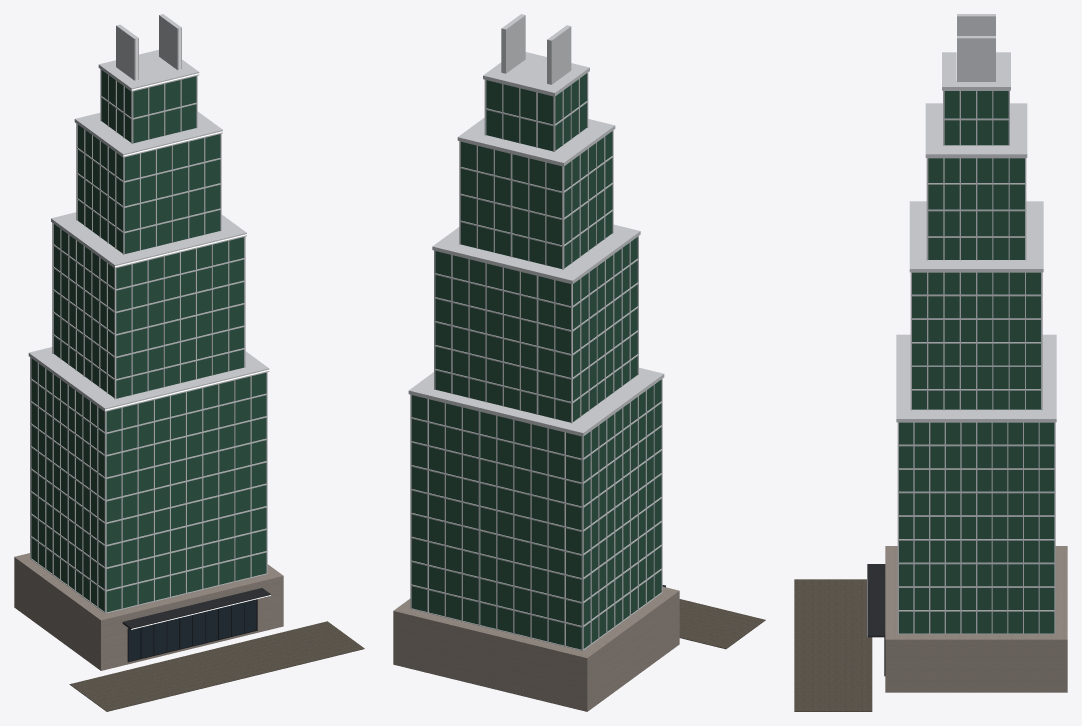
Rendered from OT_Skyscraper_Setback.glb.
3 renders of one model, left to right at view 1: azimuth 30°, elevation 25°; view 2: azimuth 150°, elevation 25°; view 3: azimuth 270°, elevation 25°, orthographic. The views are drawn at different scales.
Parts seen in each view (by area): view 1: OT_Skyscraper_Setback_GreenGlass__2f5a48, OT_Skyscraper_Setback_Mullion__d6d8dc, OT_Skyscraper_Setback_Limestone, OT_Skyscraper_Setback_Pavement, OT_Skyscraper_Setback_Glass__22303a, OT_Skyscraper_Setback_CanopyDark__2a2c30, OT_Skyscraper_Setback_LEDStrip__e8f2ff, OT_Skyscraper_Setback_Frame__18191c; view 2: OT_Skyscraper_Setback_GreenGlass__2f5a48, OT_Skyscraper_Setback_Mullion__d6d8dc, OT_Skyscraper_Setback_Limestone, OT_Skyscraper_Setback_Pavement; view 3: OT_Skyscraper_Setback_GreenGlass__2f5a48, OT_Skyscraper_Setback_Mullion__d6d8dc, OT_Skyscraper_Setback_Limestone, OT_Skyscraper_Setback_Pavement, OT_Skyscraper_Setback_CanopyDark__2a2c30.
Boxes of the visible parts, x1,y1,x2,y2 form: OT_Skyscraper_Setback_GreenGlass__2f5a48: (31, 70, 266, 612); OT_Skyscraper_Setback_Mullion__d6d8dc: (28, 14, 269, 613); OT_Skyscraper_Setback_Limestone: (14, 553, 283, 670); OT_Skyscraper_Setback_Pavement: (69, 621, 364, 711); OT_Skyscraper_Setback_Glass__22303a: (128, 599, 256, 661); OT_Skyscraper_Setback_CanopyDark__2a2c30: (122, 588, 270, 629); OT_Skyscraper_Setback_LEDStrip__e8f2ff: (105, 28, 269, 410); OT_Skyscraper_Setback_Frame__18191c: (127, 599, 257, 662); OT_Skyscraper_Setback_GreenGlass__2f5a48: (411, 73, 661, 649); OT_Skyscraper_Setback_Mullion__d6d8dc: (408, 14, 664, 650); OT_Skyscraper_Setback_Limestone: (393, 586, 679, 711); OT_Skyscraper_Setback_Pavement: (679, 599, 765, 649); OT_Skyscraper_Setback_GreenGlass__2f5a48: (899, 91, 1054, 633); OT_Skyscraper_Setback_Mullion__d6d8dc: (896, 14, 1056, 634); OT_Skyscraper_Setback_Limestone: (885, 546, 1067, 692); OT_Skyscraper_Setback_Pavement: (794, 579, 872, 711); OT_Skyscraper_Setback_CanopyDark__2a2c30: (867, 564, 885, 637).
Bounding box in the file's own units: 48 × 105 × 42.
Materials: 10 (2 with a texture image).
